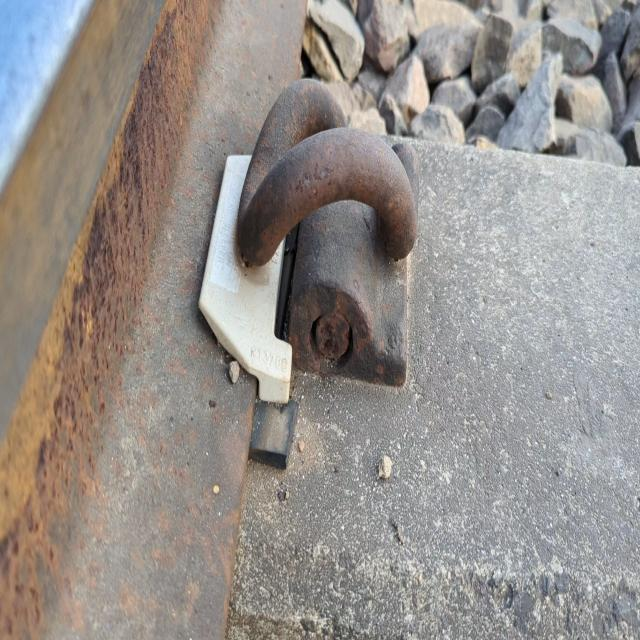underrailed: (235, 70, 450, 400)
